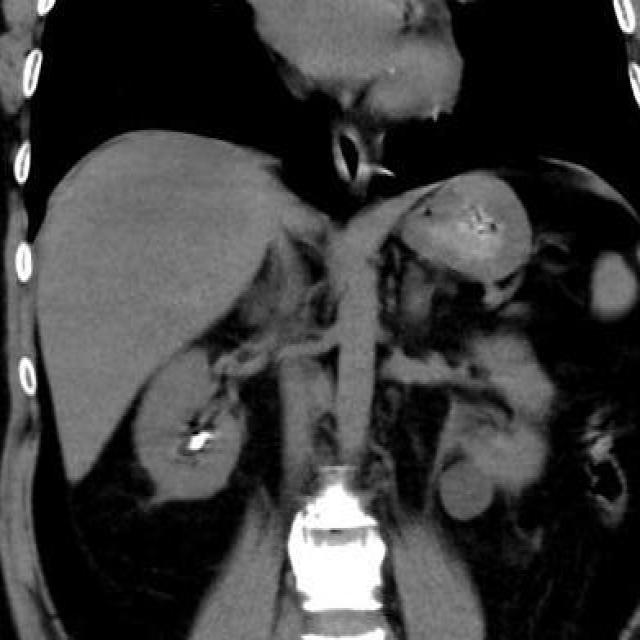Tas_Var: (187, 428, 211, 456)
